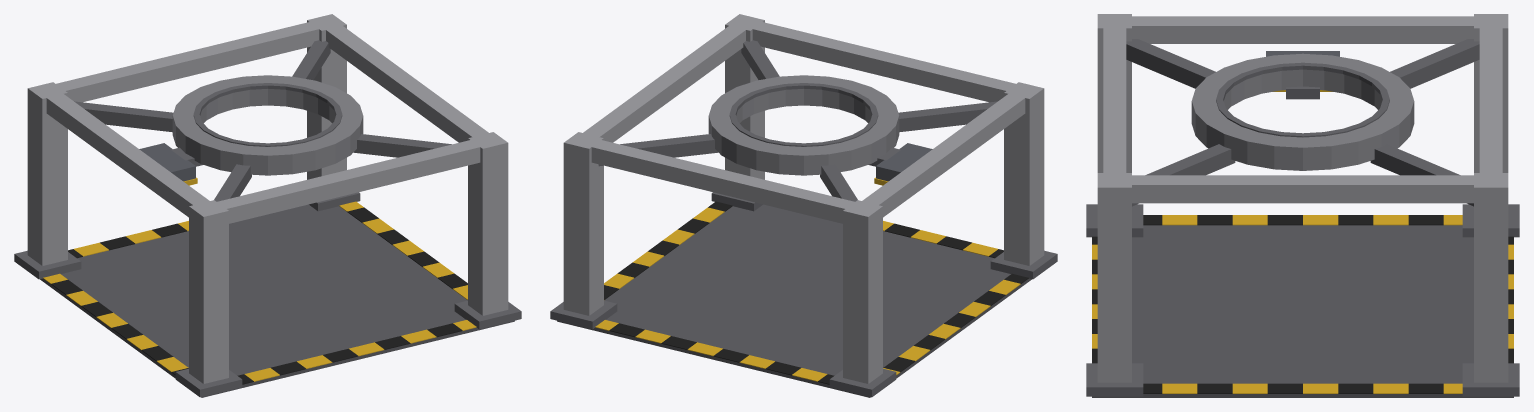
File: vge_gun_frame_3x3.obj
The picture shows the model from 3 angles, left to right: view 1: azimuth 30°, elevation 25°; view 2: azimuth 150°, elevation 25°; view 3: azimuth 270°, elevation 25°; orthographic projection. The views are drawn at different scales.
Parts seen in each view (by area): view 1: vge_gun_frame_3x3_0, vge_gun_frame_3x3_61, vge_gun_frame_3x3_50, vge_gun_frame_3x3_54, vge_gun_frame_3x3_52, vge_gun_frame_3x3_57, vge_gun_frame_3x3_59, vge_gun_frame_3x3_58, vge_gun_frame_3x3_60, vge_gun_frame_3x3_56, vge_gun_frame_3x3_62, vge_gun_frame_3x3_64 (+8 smaller); view 2: vge_gun_frame_3x3_0, vge_gun_frame_3x3_61, vge_gun_frame_3x3_52, vge_gun_frame_3x3_56, vge_gun_frame_3x3_50, vge_gun_frame_3x3_59, vge_gun_frame_3x3_57, vge_gun_frame_3x3_58, vge_gun_frame_3x3_60, vge_gun_frame_3x3_54, vge_gun_frame_3x3_62, vge_gun_frame_3x3_63 (+8 smaller); view 3: vge_gun_frame_3x3_0, vge_gun_frame_3x3_61, vge_gun_frame_3x3_60, vge_gun_frame_3x3_58, vge_gun_frame_3x3_54, vge_gun_frame_3x3_56, vge_gun_frame_3x3_57, vge_gun_frame_3x3_59, vge_gun_frame_3x3_62, vge_gun_frame_3x3_50, vge_gun_frame_3x3_52, vge_gun_frame_3x3_63 (+24 smaller).
Boxes of the visible parts, x1,y1,x2,y2 form: vge_gun_frame_3x3_0: (40, 204, 514, 397); vge_gun_frame_3x3_61: (172, 75, 363, 175); vge_gun_frame_3x3_50: (189, 200, 228, 383); vge_gun_frame_3x3_54: (468, 132, 508, 315); vge_gun_frame_3x3_52: (27, 82, 67, 265); vge_gun_frame_3x3_57: (205, 138, 484, 223); vge_gun_frame_3x3_59: (56, 20, 330, 102); vge_gun_frame_3x3_58: (44, 93, 211, 217); vge_gun_frame_3x3_60: (325, 24, 491, 142); vge_gun_frame_3x3_56: (307, 14, 346, 179); vge_gun_frame_3x3_62: (193, 83, 342, 146); vge_gun_frame_3x3_64: (74, 101, 173, 132); vge_gun_frame_3x3_0: (557, 204, 1031, 397); vge_gun_frame_3x3_61: (708, 75, 899, 175); vge_gun_frame_3x3_52: (843, 200, 882, 383); vge_gun_frame_3x3_56: (563, 132, 603, 315); vge_gun_frame_3x3_50: (1004, 82, 1044, 265); vge_gun_frame_3x3_59: (591, 140, 866, 223); vge_gun_frame_3x3_57: (741, 21, 1015, 102); vge_gun_frame_3x3_58: (860, 93, 1027, 217); vge_gun_frame_3x3_60: (580, 25, 745, 142); vge_gun_frame_3x3_54: (725, 14, 764, 179); vge_gun_frame_3x3_62: (729, 83, 878, 146); vge_gun_frame_3x3_63: (898, 101, 997, 132); vge_gun_frame_3x3_0: (1092, 225, 1513, 397); vge_gun_frame_3x3_61: (1191, 53, 1414, 170); vge_gun_frame_3x3_60: (1126, 175, 1479, 203); vge_gun_frame_3x3_58: (1126, 16, 1479, 43); vge_gun_frame_3x3_54: (1097, 173, 1131, 382); vge_gun_frame_3x3_56: (1474, 173, 1508, 382); vge_gun_frame_3x3_57: (1103, 22, 1126, 179); vge_gun_frame_3x3_59: (1479, 22, 1502, 178); vge_gun_frame_3x3_62: (1216, 62, 1389, 137); vge_gun_frame_3x3_50: (1097, 14, 1131, 172); vge_gun_frame_3x3_52: (1474, 14, 1508, 172); vge_gun_frame_3x3_63: (1126, 39, 1215, 88).
Bounding box in the file's own units: 3.04 × 1.62 × 3.04.
